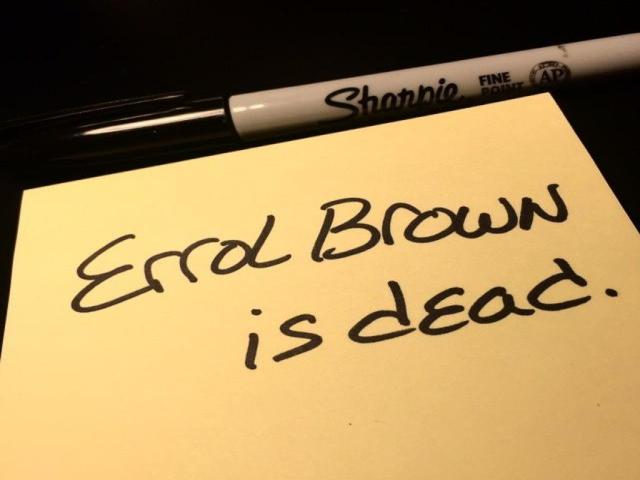PEN: (6, 27, 640, 154)
